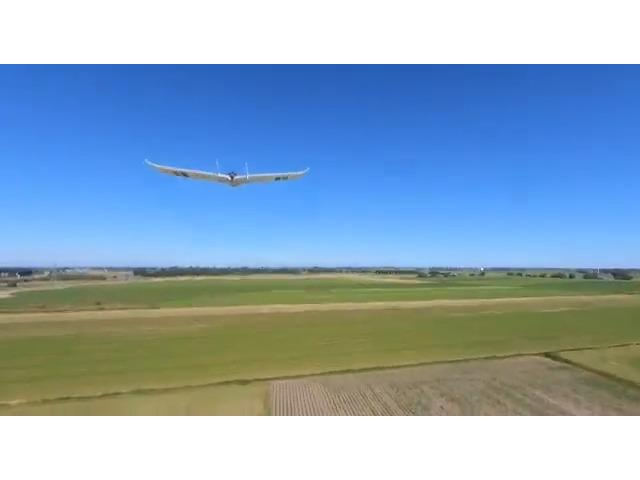Anti-Drone: (140, 143, 316, 209)
